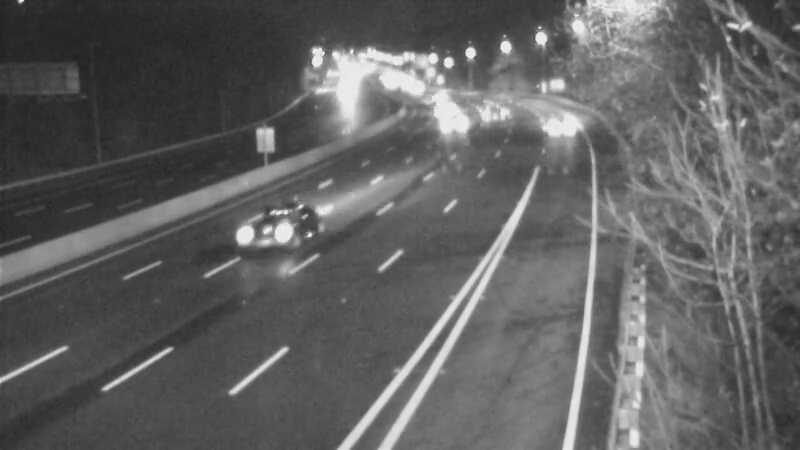vehicle: (234, 199, 314, 279), (405, 76, 455, 126), (419, 84, 469, 134), (469, 85, 519, 135), (532, 105, 582, 155), (429, 102, 479, 152)
